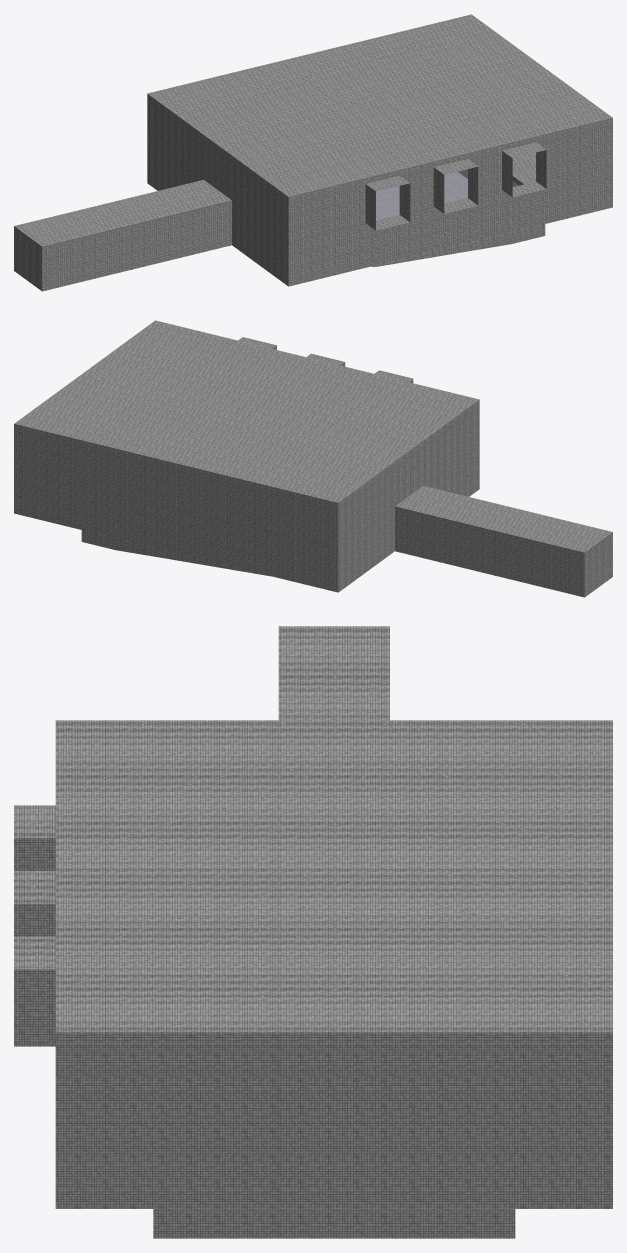
File: Example1.glb
The picture shows the model from 3 angles, top to bottom: view 1: azimuth 30°, elevation 25°; view 2: azimuth 150°, elevation 25°; view 3: azimuth 270°, elevation 25°; orthographic projection. The views are drawn at different scales.
Parts seen in each view (by area): view 1: Structure, Water; view 2: Structure; view 3: Structure.
Part boxes in pixels (x1=…): Structure: x1=14, y1=14, x2=612, y2=291; Water: x1=376, y1=169, x2=518, y2=219; Structure: x1=14, y1=320, x2=612, y2=597; Structure: x1=14, y1=626, x2=612, y2=1238.
Bounding box in the file's own units: 84 × 19.62 × 43.
Materials: 2 (1 with a texture image).
